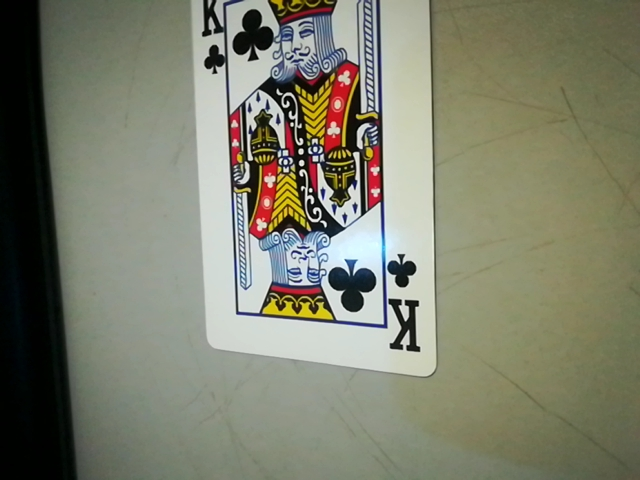mh k: (188, 0, 229, 78)
